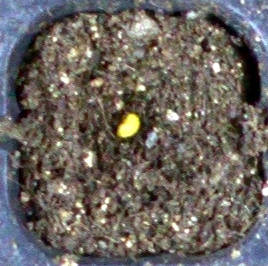chilli seed: (114, 112, 141, 138)
